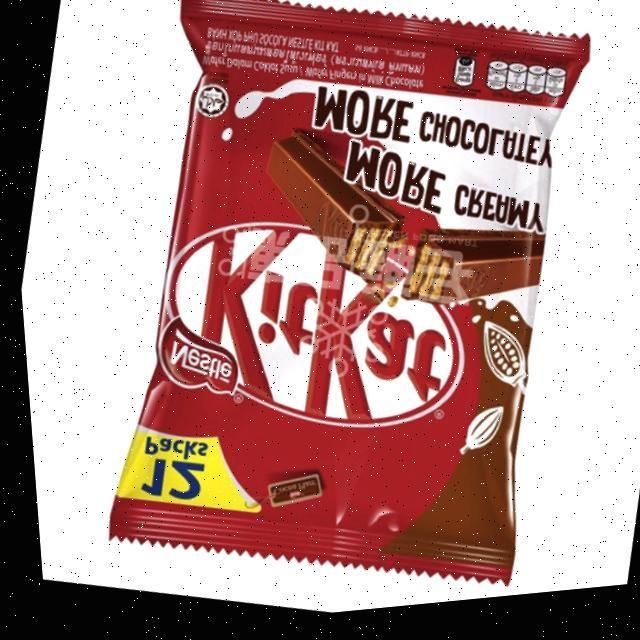kitkat_chocolate: (203, 25, 522, 558)
